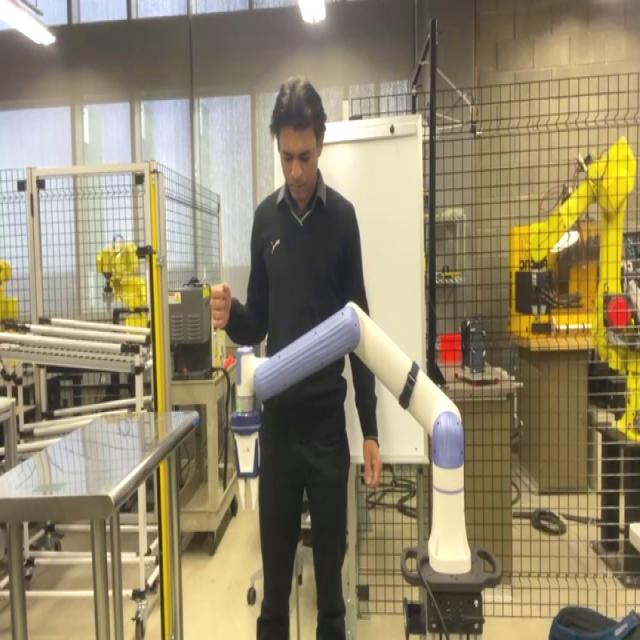robot: (250, 298, 502, 638)
